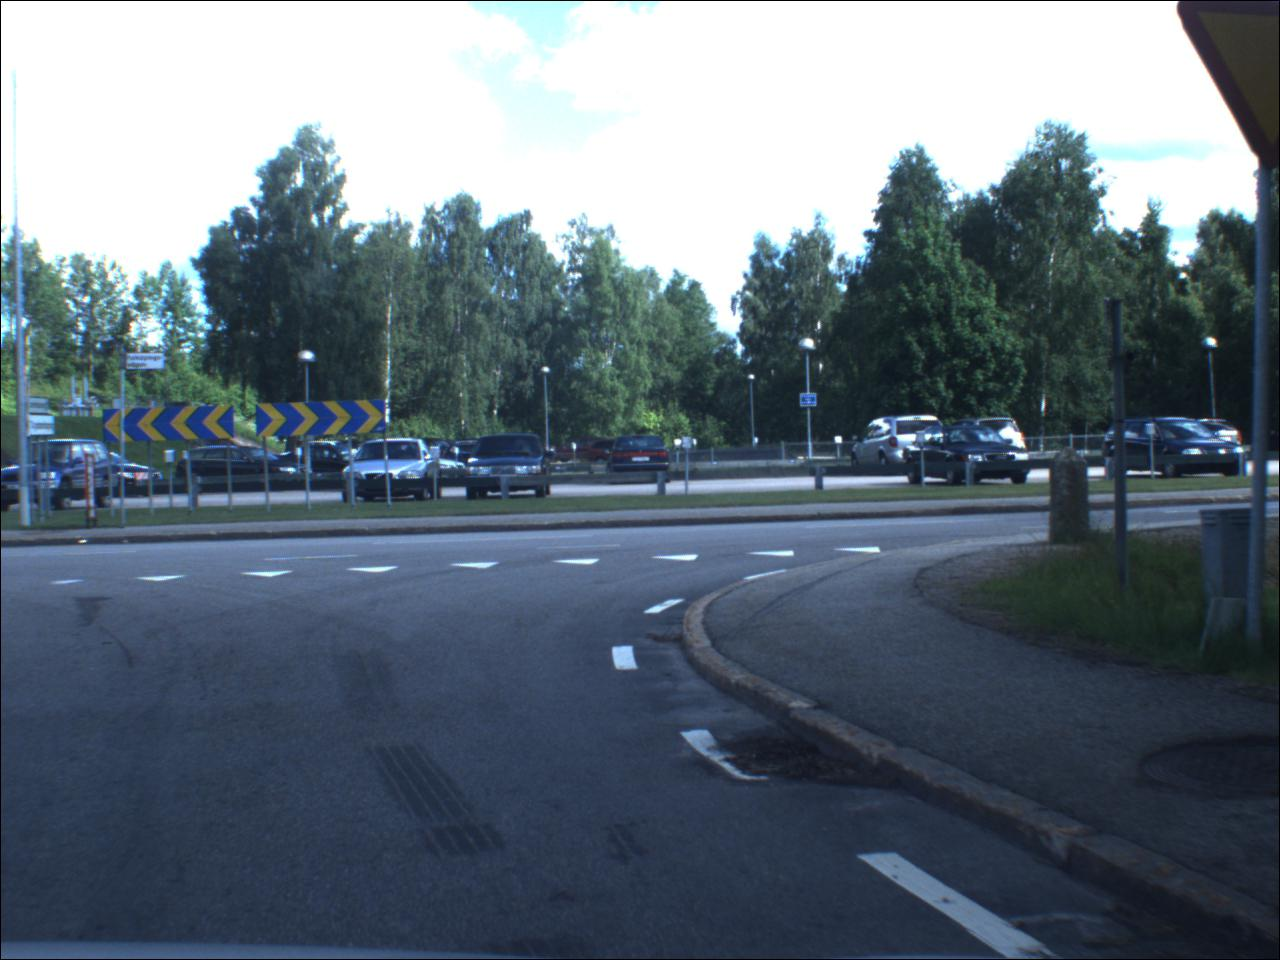GIVE_WAY: (1179, 4, 1277, 170)
